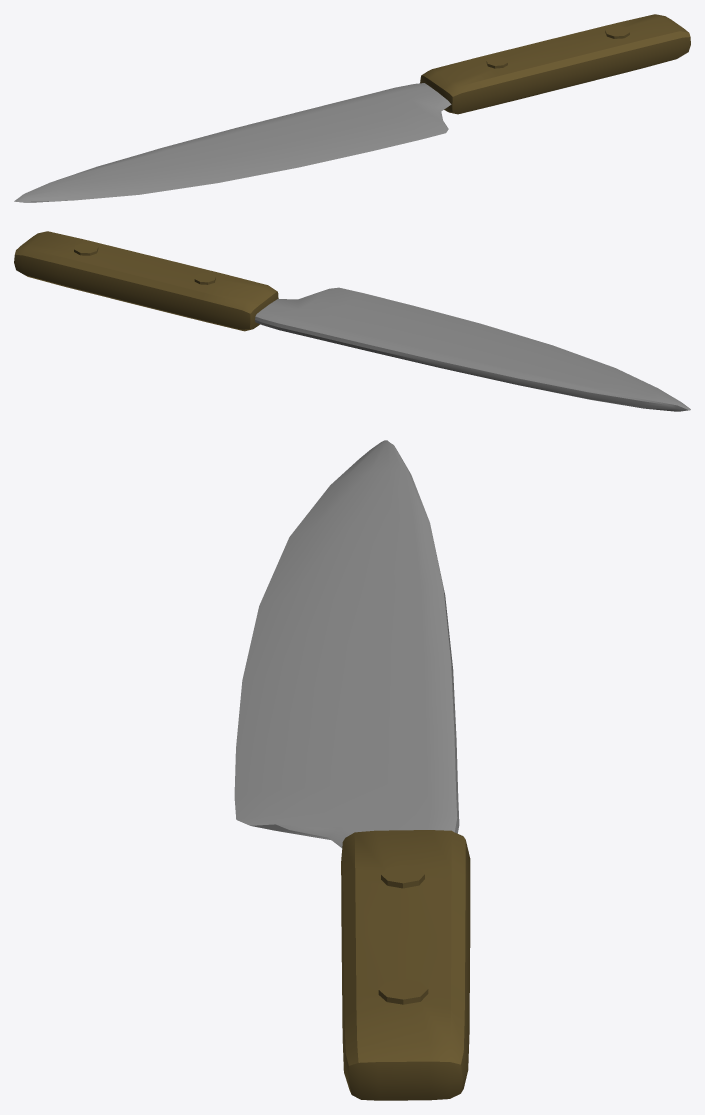
Rendered from knife.fbx.
The picture shows the model from 3 angles, top to bottom: view 1: azimuth 30°, elevation 25°; view 2: azimuth 150°, elevation 25°; view 3: azimuth 270°, elevation 25°; orthographic projection. The views are drawn at different scales.
Visible parts, largest first — view 1: knife_blade, knife_handle; view 2: knife_blade, knife_handle; view 3: knife_blade, knife_handle.
Boxes of the visible parts, bbox=[...] form: knife_blade: bbox=[14, 83, 451, 202]; knife_handle: bbox=[420, 14, 690, 114]; knife_blade: bbox=[255, 287, 690, 411]; knife_handle: bbox=[14, 231, 278, 331]; knife_blade: bbox=[234, 440, 459, 848]; knife_handle: bbox=[341, 830, 470, 1100].
Bounding box in the file's own units: 89.94 × 4.76 × 13.9.
